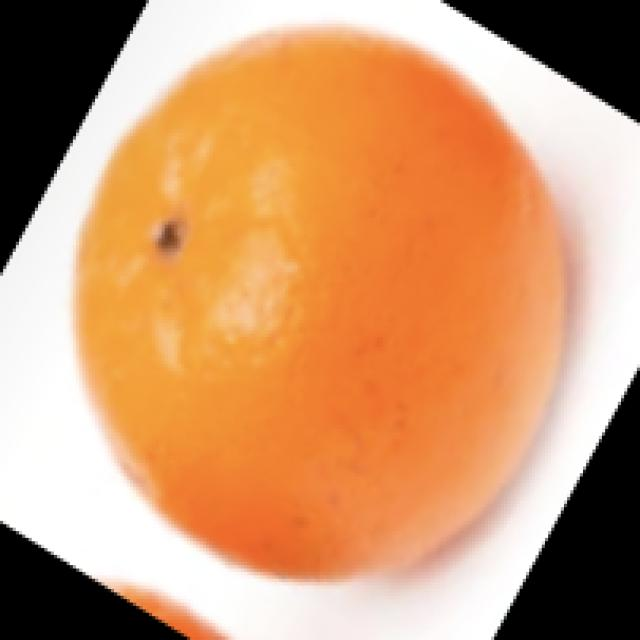matang: (87, 29, 563, 594)
